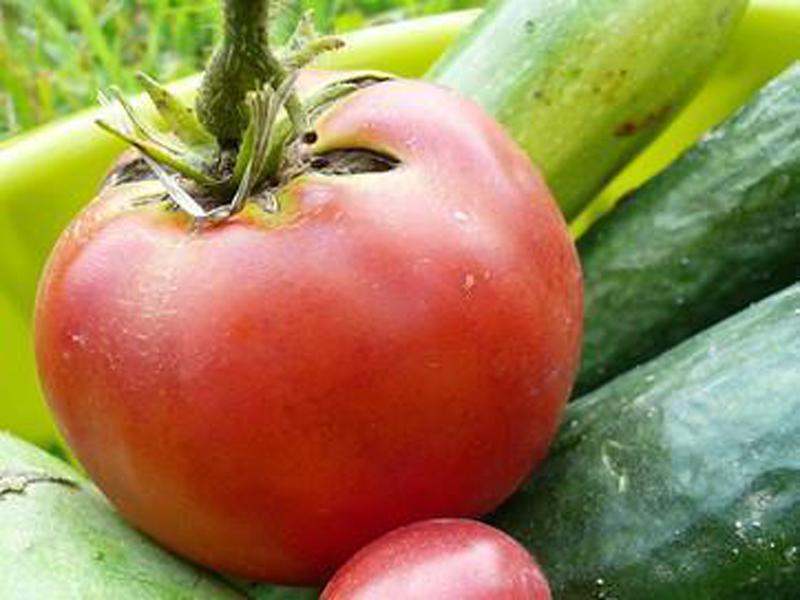Tomato: (31, 77, 579, 587)
